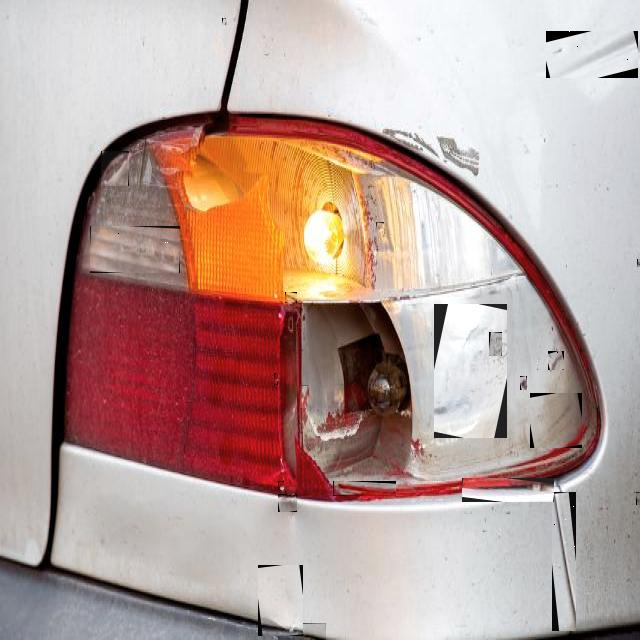Dent: (434, 304, 507, 438), (546, 31, 638, 78), (90, 226, 180, 273), (552, 492, 576, 631), (258, 565, 303, 636), (530, 393, 582, 448), (462, 478, 554, 502), (101, 151, 129, 186), (333, 481, 396, 496), (278, 623, 326, 640), (456, 319, 478, 351), (278, 494, 297, 512), (489, 332, 502, 357), (548, 351, 564, 370), (440, 406, 456, 421), (300, 385, 308, 408), (285, 292, 297, 303), (520, 376, 527, 390), (376, 222, 384, 231), (287, 487, 295, 495), (554, 38, 564, 44), (278, 481, 284, 490), (636, 492, 640, 505), (274, 373, 278, 385), (300, 308, 305, 316), (222, 18, 226, 25), (637, 259, 640, 267)
